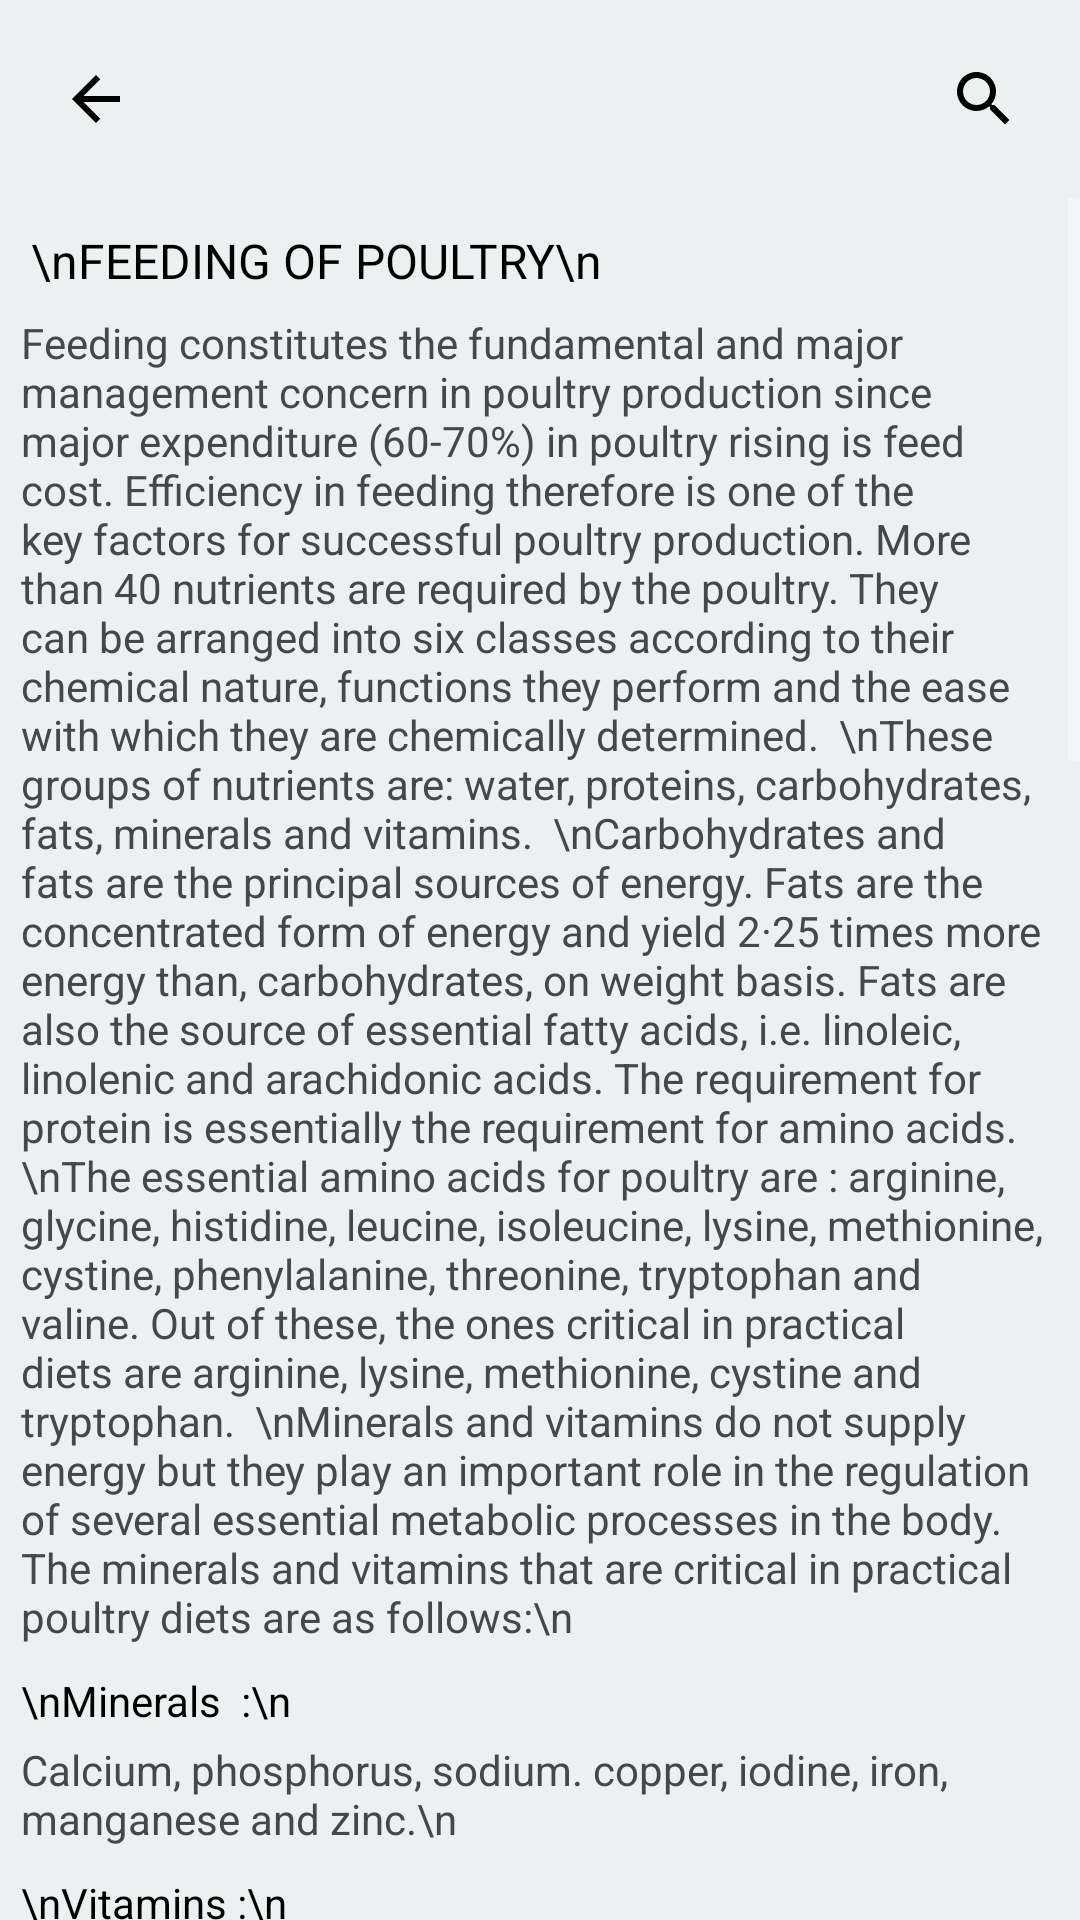

Icon bounding boxes for this 1080x1920 phone screenshot, format (x1, y1, x2, y2):
arrow back: (72, 75, 120, 123)
search: (957, 72, 1009, 124)
